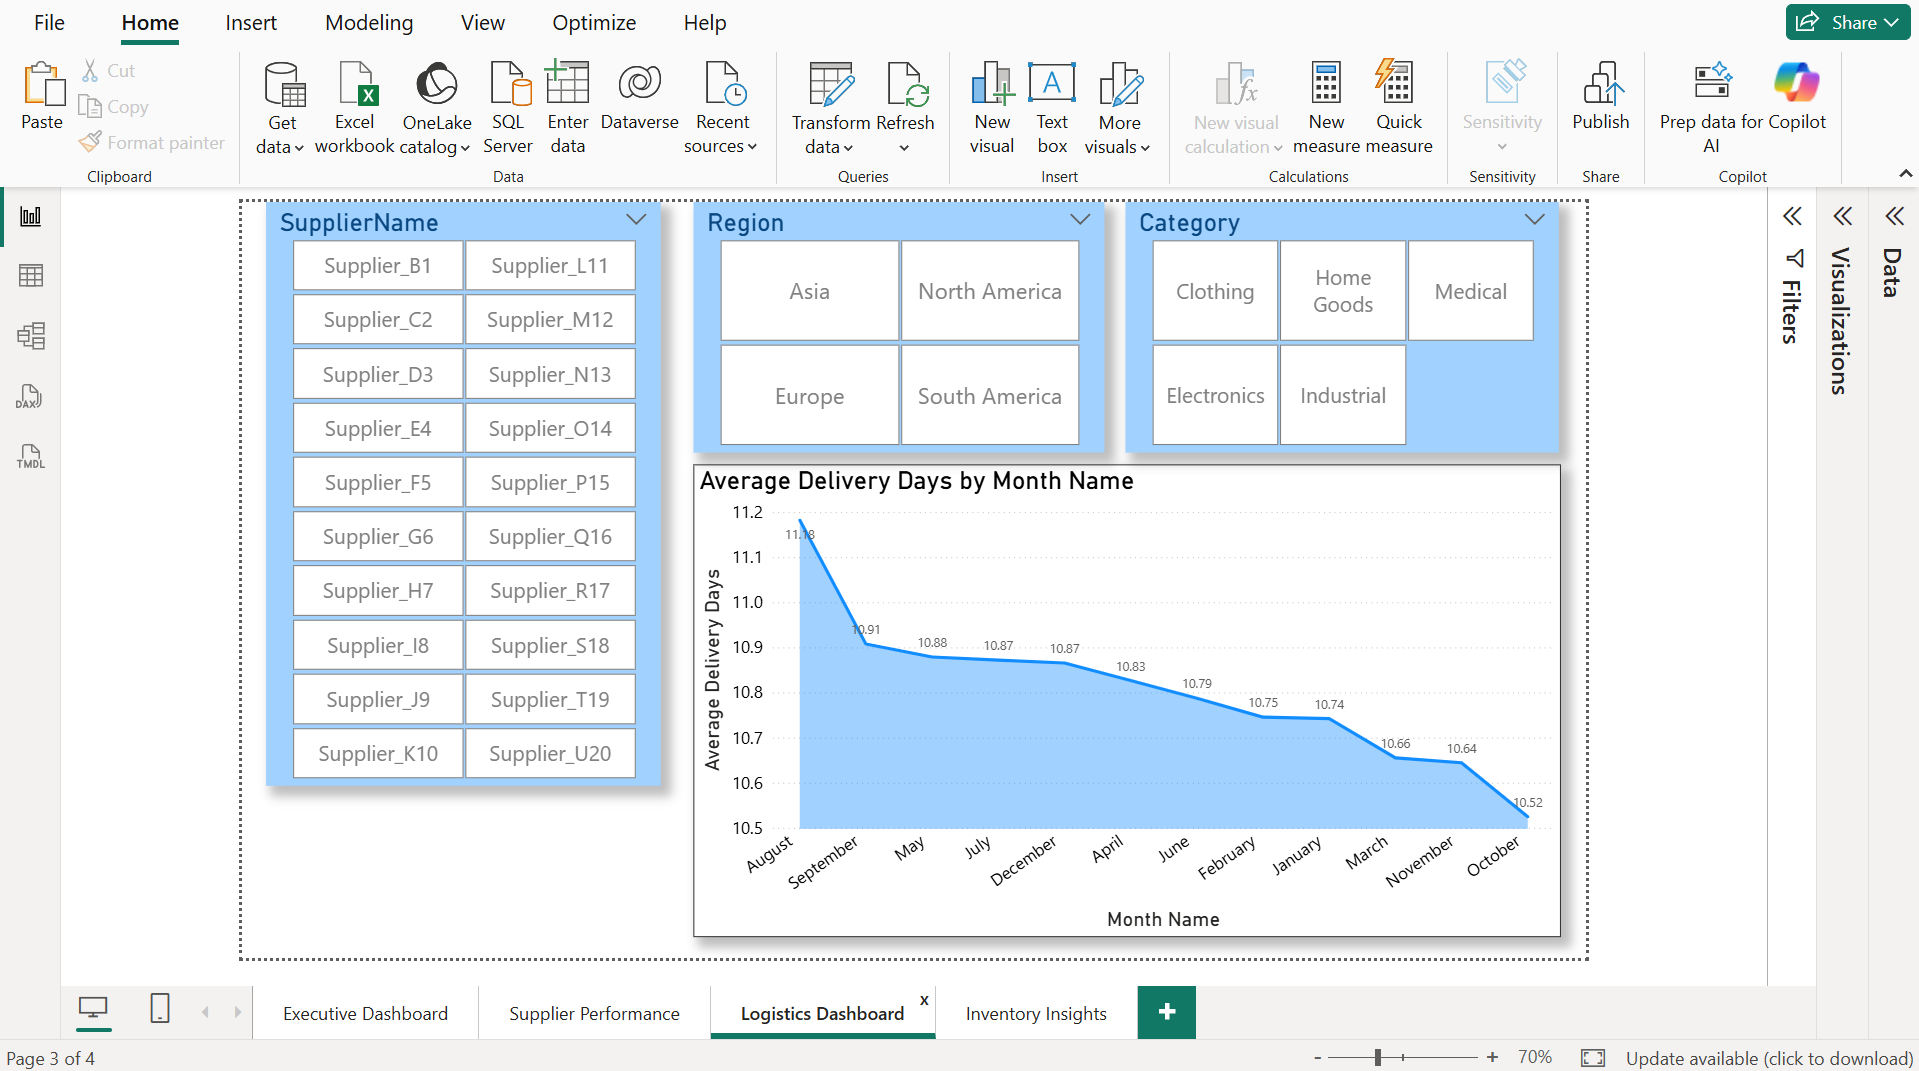

What the dashboard file says about the page in this screenshot:
{"tool":"powerbi","page":{"name":"Logistics Dashboard","canvas":[1280,720],"ordinal":2},"visuals":[{"type":"lineChart","fields":{"Y":["fact_orders.Average Delivery Days"],"Category":["DateTable.Month Name"]},"box":[430,250,825.7,450],"z":0},{"type":"slicer","fields":{"Values":["dim_suppliers.Region"]},"box":[430,0,391.4,238.6],"z":1},{"type":"slicer","fields":{"Values":["dim_suppliers.SupplierName"]},"box":[22.9,0,375.7,555.7],"z":2},{"type":"slicer","fields":{"Values":["dim_products.Category"]},"box":[841.4,0,412.9,238.6],"z":3}]}

Visuals, with their boxes on the page's 1280x720 design canvas (x1, y1, x2, y2). These are canvas units, not pixel positions in the 1919x1071 screenshot, which may show the page scaled, cropped or inside an application window:
lineChart - fact_orders.Average Delivery Days x DateTable.Month Name: <bbox>430, 250, 1256, 700</bbox>
slicer - dim_suppliers.Region: <bbox>430, 0, 821, 239</bbox>
slicer - dim_suppliers.SupplierName: <bbox>23, 0, 399, 556</bbox>
slicer - dim_products.Category: <bbox>841, 0, 1254, 239</bbox>
